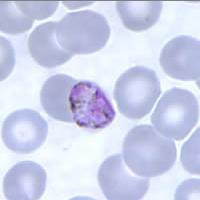Infected: (69, 78, 116, 129)
Uninfected: (124, 125, 176, 176), (96, 151, 148, 200), (114, 65, 160, 120), (152, 88, 200, 140), (55, 11, 112, 54), (40, 74, 87, 125), (1, 106, 48, 154), (25, 21, 73, 67), (157, 33, 200, 82), (3, 161, 48, 200), (114, 0, 162, 32)
